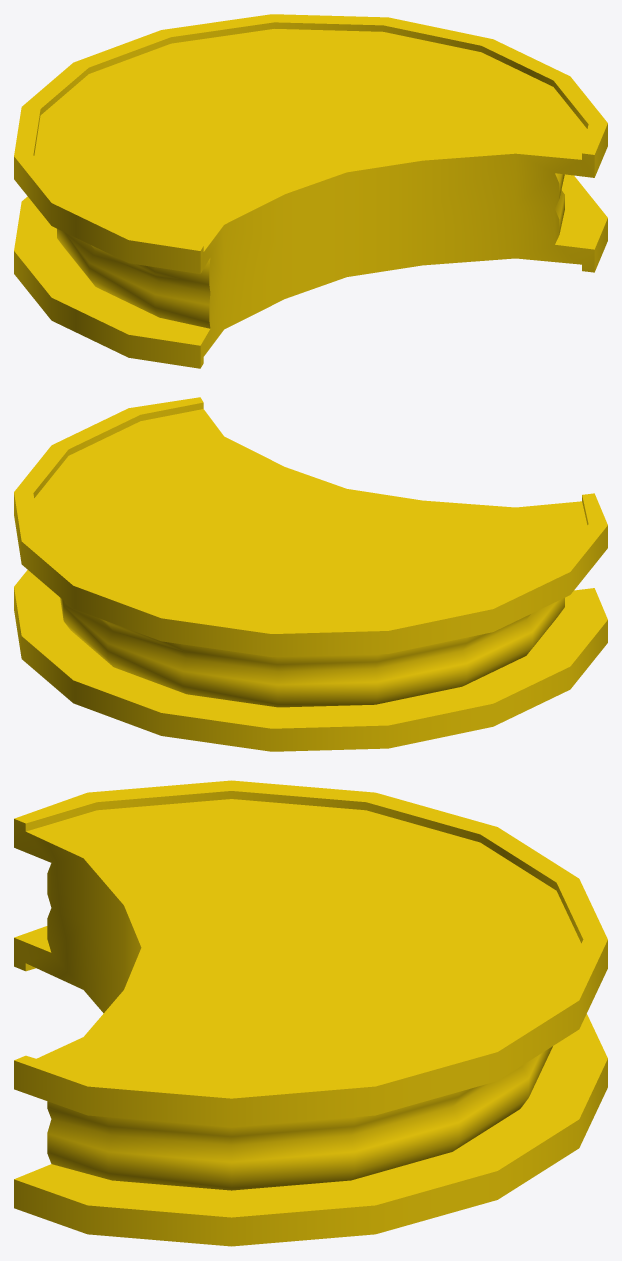
File: Oreo.fbx
The picture shows the model from 3 angles, top to bottom: view 1: azimuth 30°, elevation 25°; view 2: azimuth 150°, elevation 25°; view 3: azimuth 270°, elevation 25°; orthographic projection. The views are drawn at different scales.
Parts seen in each view (by area): view 1: Oreo; view 2: Oreo; view 3: Oreo.
Part boxes in pixels (left/top/right/bottom): Oreo: left=14, top=14, right=607, bottom=368; Oreo: left=14, top=397, right=607, bottom=751; Oreo: left=14, top=780, right=607, bottom=1246.
Size of the model in its own units: 0.6556 by 0.1421 by 0.5173.
